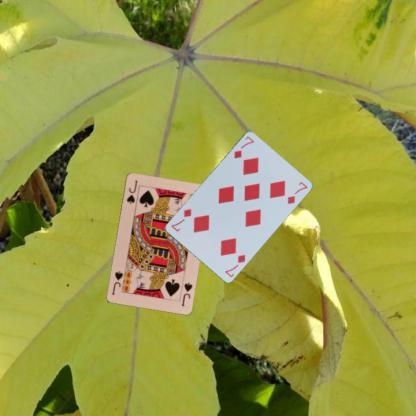7d: (231, 132, 256, 160), (222, 251, 247, 278)
Js: (178, 280, 194, 308), (124, 178, 140, 204)
